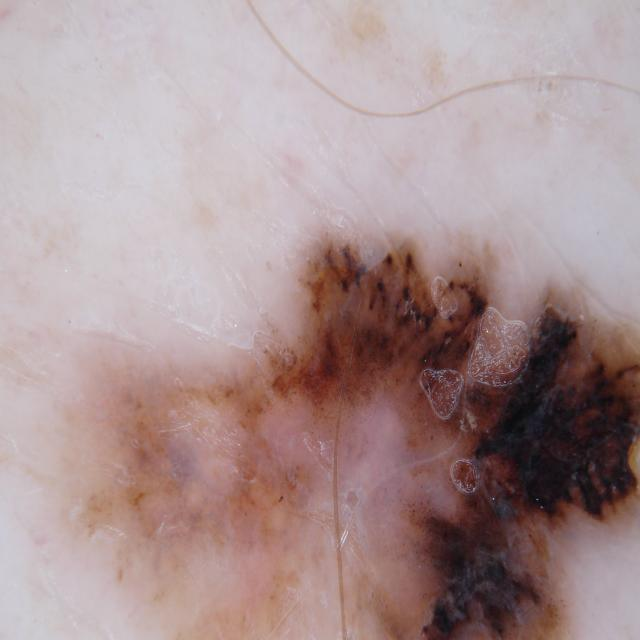Melanoma: (34, 188, 639, 640)
